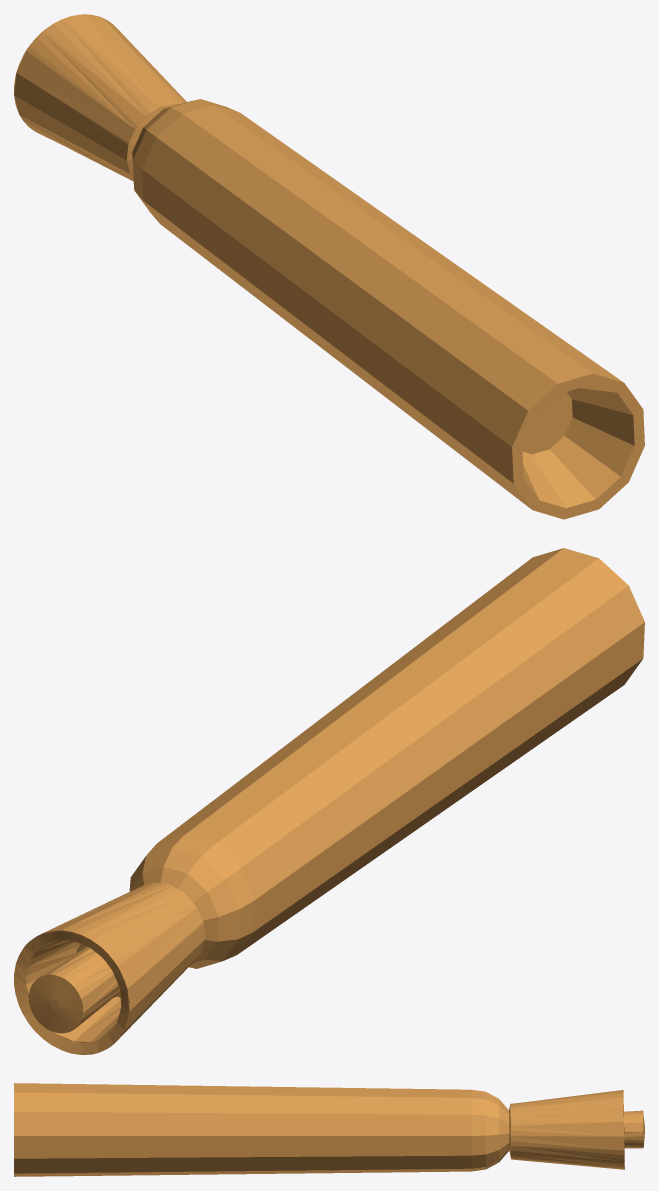
The model's file is pen2_6.dae.
3 renders of one model, top to bottom at view 1: azimuth 30°, elevation 25°; view 2: azimuth 150°, elevation 25°; view 3: azimuth 270°, elevation 25°, orthographic. The views are drawn at different scales.
Visible parts, largest first — view 1: pen2_019; view 2: pen2_019; view 3: pen2_019.
Part boxes in pixels (left/top/right/bottom): pen2_019: left=14, top=14, right=644, bottom=519; pen2_019: left=14, top=548, right=644, bottom=1054; pen2_019: left=14, top=1083, right=644, bottom=1176.
Size of the model in its own units: 0.038 by 0.2596 by 0.038.
